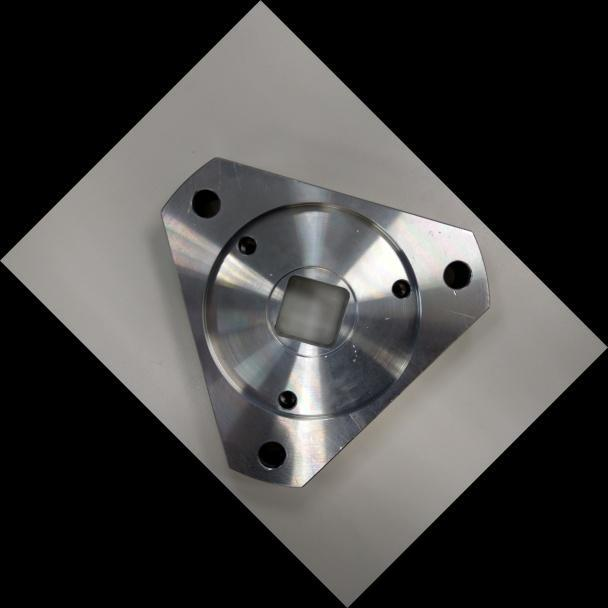hole: (433, 250, 482, 300), (182, 179, 229, 227), (247, 431, 294, 478), (229, 227, 264, 263), (270, 383, 304, 417), (385, 272, 418, 305)
